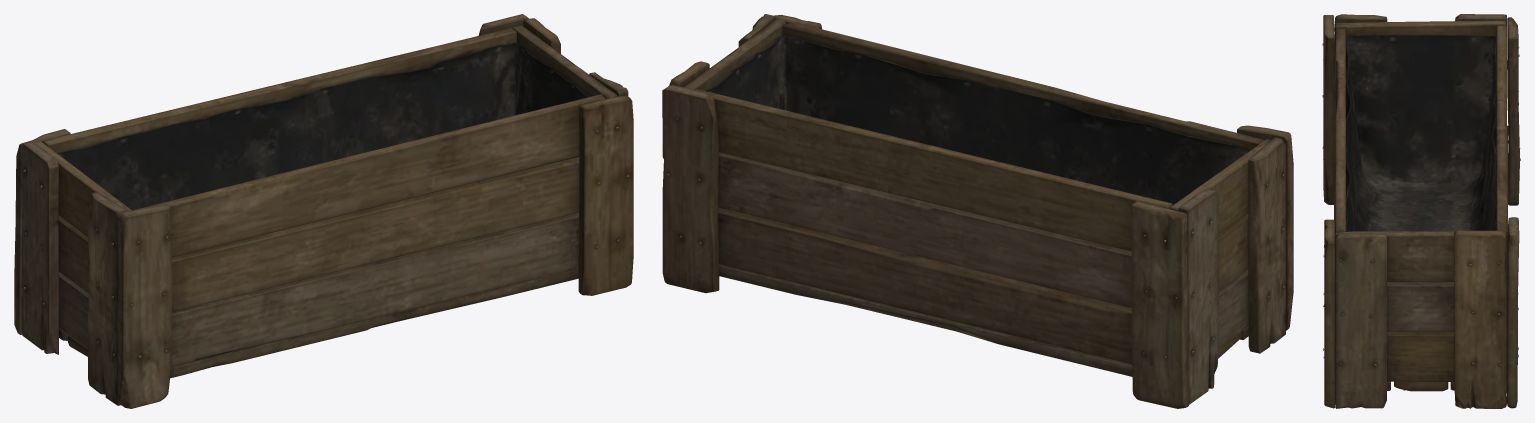
File: planter_box_02.glb
3 views of the same model, side by side, from view 1: azimuth 30°, elevation 25°; view 2: azimuth 150°, elevation 25°; view 3: azimuth 270°, elevation 25° (orthographic). The views are drawn at different scales.
Parts seen in each view (by area): view 1: planter_box_02; view 2: planter_box_02; view 3: planter_box_02.
Part boxes in pixels (left/top/right/bottom): planter_box_02: left=14, top=14, right=633, bottom=408; planter_box_02: left=662, top=14, right=1293, bottom=408; planter_box_02: left=1322, top=14, right=1520, bottom=408.
Size of the model in its own units: 1.25 by 0.4534 by 0.467.
Materials: 1 (1 with a texture image).
